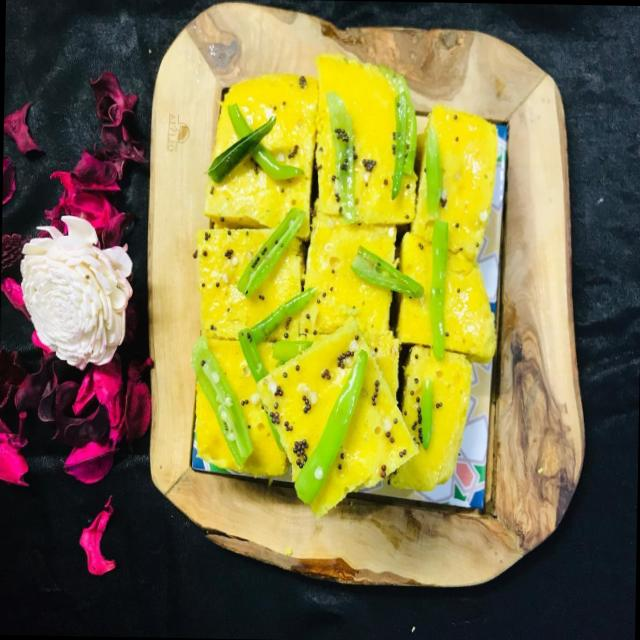dhokla: (191, 57, 496, 476)
